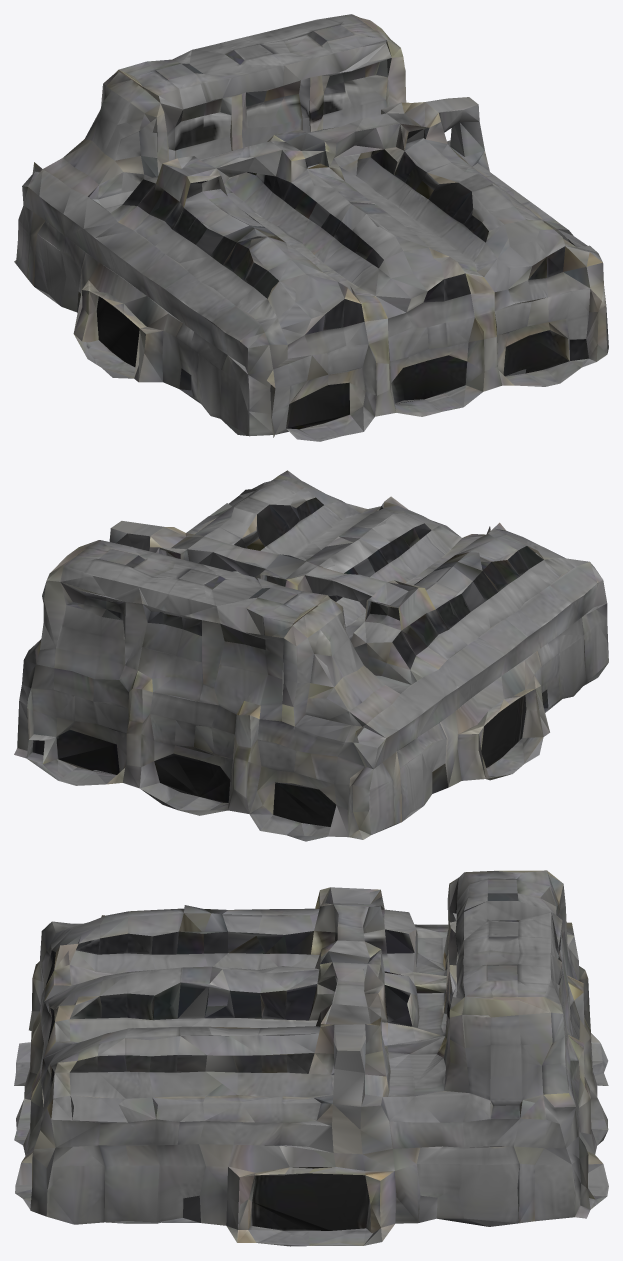
Rendered from imperial_goods_manufactory_lod2.glb.
3 renders of one model, top to bottom at view 1: azimuth 30°, elevation 25°; view 2: azimuth 150°, elevation 25°; view 3: azimuth 270°, elevation 25°, orthographic. The views are drawn at different scales.
Visible parts, largest first — view 1: mesh_node; view 2: mesh_node; view 3: mesh_node.
Boxes of the visible parts, x1=… form: mesh_node: x1=14, y1=14, x2=608, y2=441; mesh_node: x1=14, y1=470, x2=608, y2=841; mesh_node: x1=14, y1=870, x2=608, y2=1246.
Size of the model in its own units: 29.13 by 12.68 by 31.5.
Materials: 1 (1 with a texture image).
